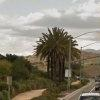Palm tree: (33, 24, 77, 80)
